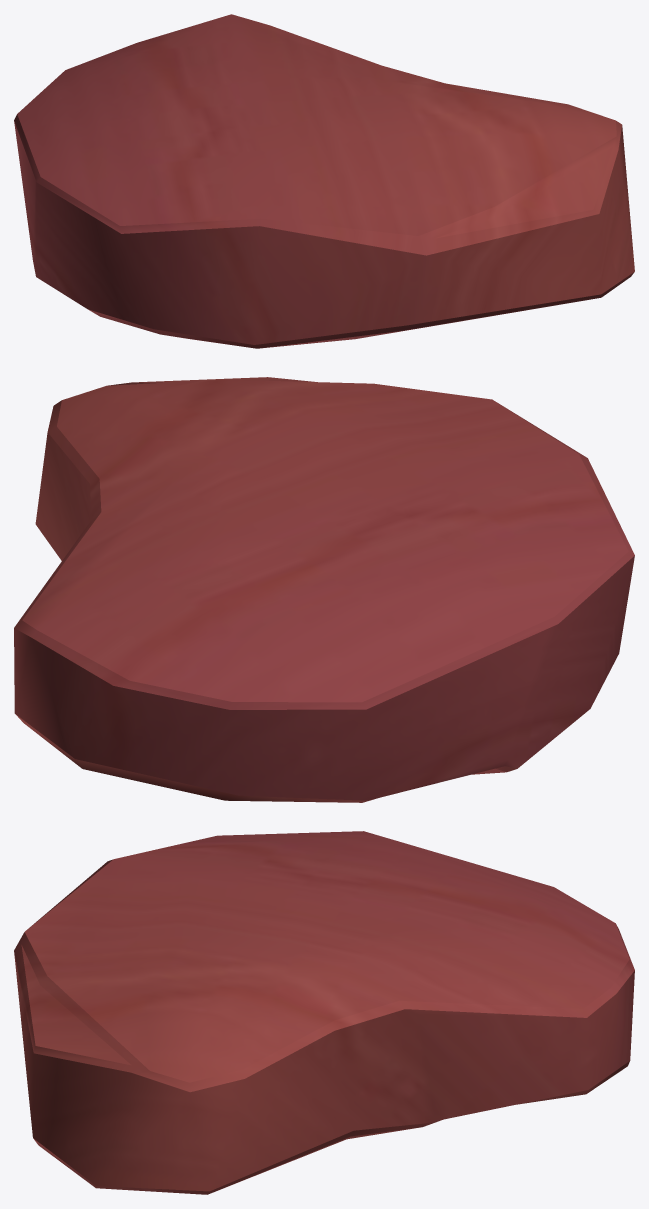
Rendered from SM_LStone_06.fbx.
3 views of the same model, one above another, from view 1: azimuth 30°, elevation 25°; view 2: azimuth 150°, elevation 25°; view 3: azimuth 270°, elevation 25° (orthographic). The views are drawn at different scales.
Visible parts, largest first — view 1: SM_LStone_06; view 2: SM_LStone_06; view 3: SM_LStone_06.
Boxes of the visible parts, x1,y1,x2,y2 form: SM_LStone_06: (14,14,634,348); SM_LStone_06: (14,377,634,802); SM_LStone_06: (14,831,634,1194).
Bounding box in the file's own units: 1274 × 426 × 1299.
Materials: 1 (1 with a texture image).
